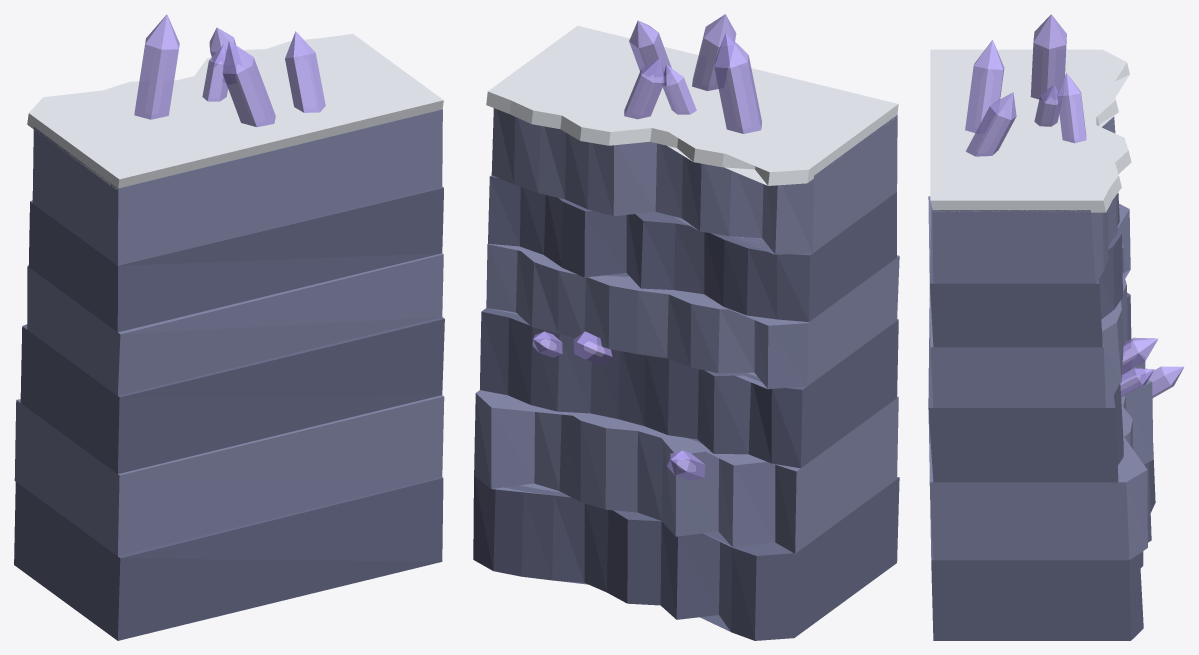
Rendered from Cliff_Crystal.glb.
3 views of the same model, side by side, from view 1: azimuth 30°, elevation 25°; view 2: azimuth 150°, elevation 25°; view 3: azimuth 270°, elevation 25° (orthographic). The views are drawn at different scales.
Parts seen in each view (by area): view 1: Rock, RockLight, Snow, Crystals; view 2: Rock, RockLight, Snow, Crystals; view 3: RockLight, Rock, Snow, Crystals.
Part boxes in pixels (left/top/right/bottom): Rock: left=14, top=186, right=444, bottom=640; RockLight: left=14, top=109, right=444, bottom=556; Snow: left=27, top=34, right=443, bottom=189; Crystals: left=134, top=14, right=325, bottom=126; Rock: left=473, top=175, right=899, bottom=640; RockLight: left=474, top=108, right=899, bottom=553; Snow: left=486, top=25, right=898, bottom=185; Crystals: left=532, top=14, right=761, bottom=480; RockLight: left=928, top=116, right=1153, bottom=560; Rock: left=928, top=193, right=1155, bottom=640; Snow: left=930, top=49, right=1131, bottom=212; Crystals: left=965, top=14, right=1183, bottom=397.
Bounding box in the file's own units: 24 × 39.19 × 17.24.
